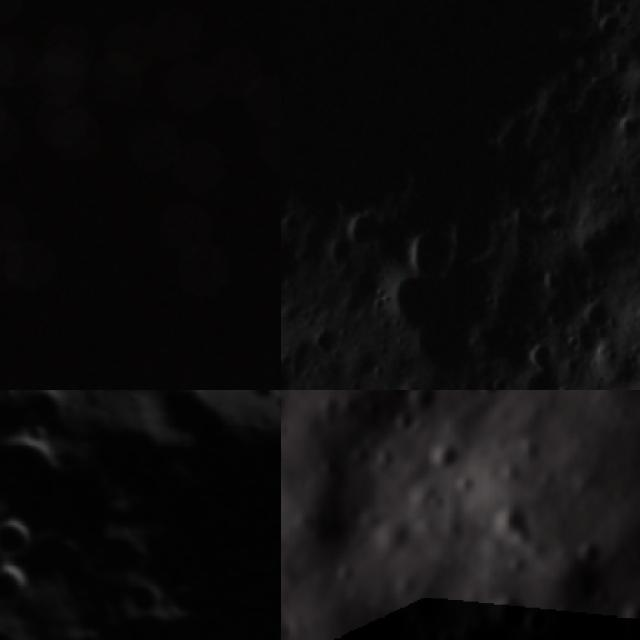crater: (0, 0, 281, 390), (281, 0, 615, 220), (0, 390, 281, 640), (475, 484, 556, 559), (395, 220, 455, 294), (331, 199, 397, 259), (114, 567, 174, 629), (417, 424, 476, 481), (0, 503, 49, 569), (0, 554, 40, 627), (563, 528, 617, 578), (515, 595, 564, 640), (607, 104, 640, 150), (611, 590, 640, 639), (281, 355, 321, 390), (249, 390, 281, 427)
